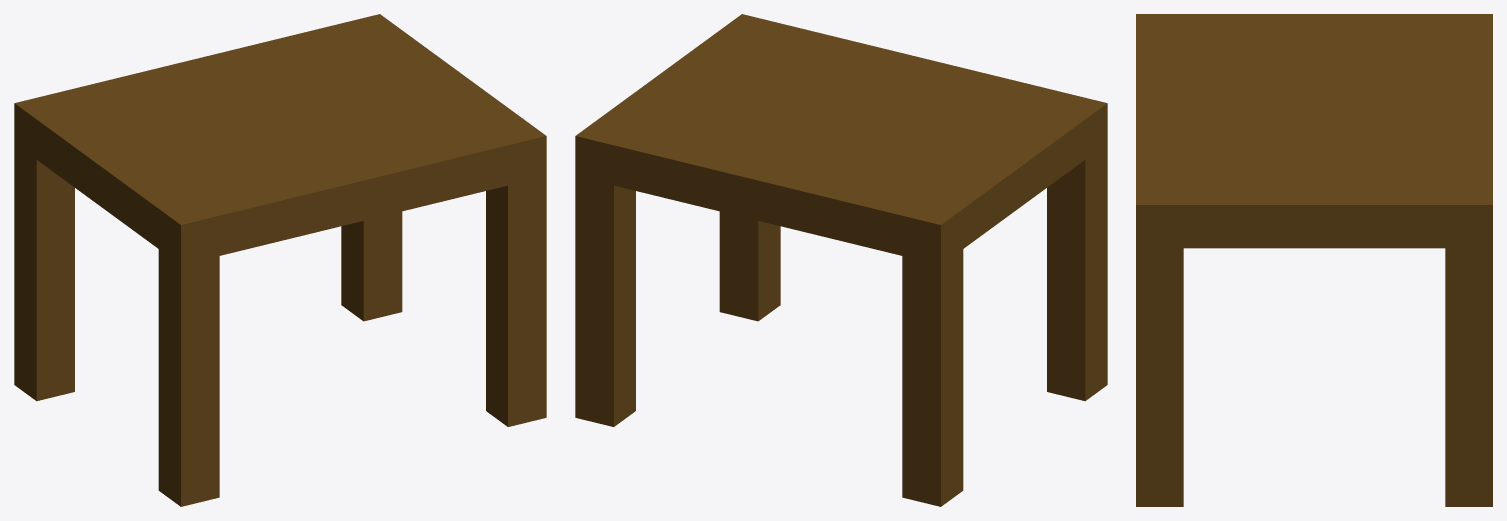
File: masa.fbx
3 renders of one model, left to right at view 1: azimuth 30°, elevation 25°; view 2: azimuth 150°, elevation 25°; view 3: azimuth 270°, elevation 25°, orthographic. The views are drawn at different scales.
Visible parts, largest first — view 1: cube_4, cube_2, cube_1, cube_3, cube; view 2: cube_4, cube_3, cube, cube_2, cube_1; view 3: cube_4, cube, cube_1.
Part boxes in pixels (x1=…): cube_4: x1=14, y1=14, x2=546, y2=265; cube_2: x1=158, y1=249, x2=219, y2=506; cube_1: x1=486, y1=176, x2=546, y2=426; cube_3: x1=14, y1=143, x2=74, y2=401; cube: x1=341, y1=211, x2=402, y2=321; cube_4: x1=575, y1=14, x2=1107, y2=265; cube_3: x1=902, y1=249, x2=963, y2=506; cube: x1=575, y1=176, x2=635, y2=426; cube_2: x1=1047, y1=143, x2=1107, y2=401; cube_1: x1=719, y1=211, x2=780, y2=321; cube_4: x1=1136, y1=14, x2=1492, y2=248; cube: x1=1445, y1=248, x2=1492, y2=506; cube_1: x1=1136, y1=248, x2=1183, y2=506.
Bounding box in the file's own units: 119 × 87.5 × 93.75.
1 material, 1 textured.
